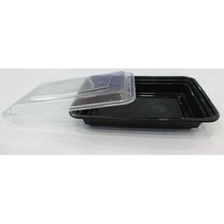plastic_box: (0, 66, 224, 136)
